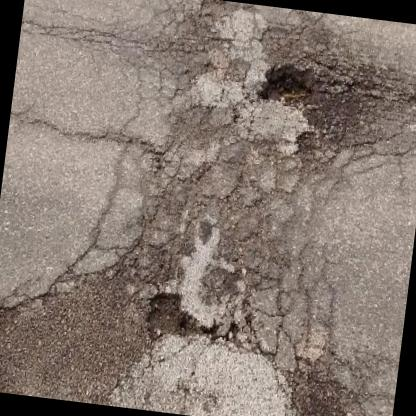pothole: (256, 56, 318, 109), (142, 286, 192, 346)
